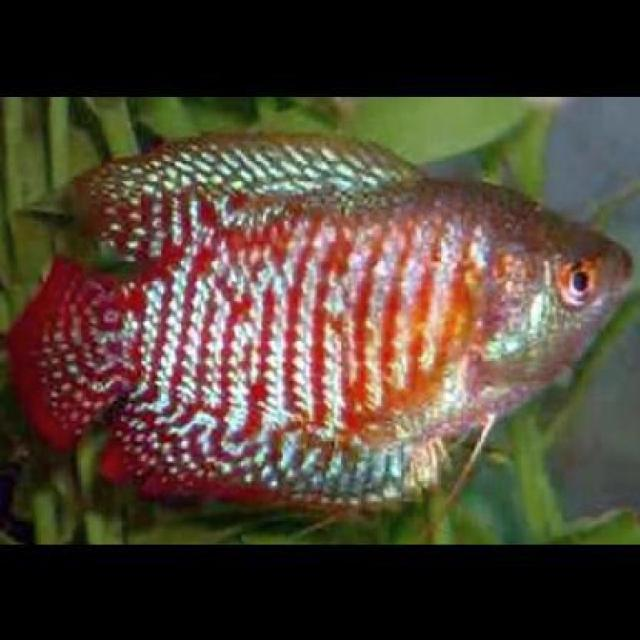Gourami: (1, 124, 632, 513)
